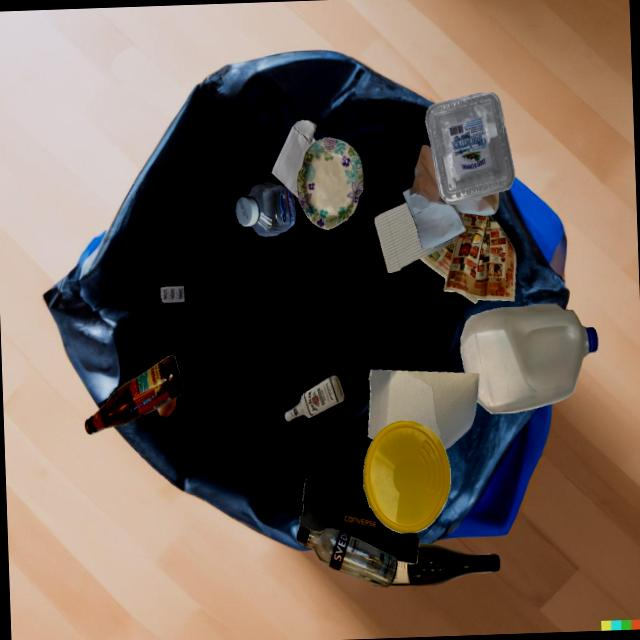biowaste: (157, 397, 176, 417)
cardboard: (298, 479, 419, 563), (367, 369, 479, 449), (296, 137, 363, 229)
glass: (84, 355, 184, 434), (296, 527, 397, 587), (389, 543, 500, 585), (284, 375, 344, 420)
paper: (402, 145, 499, 248), (419, 213, 516, 303), (374, 202, 453, 272), (271, 120, 316, 198)
plastic: (460, 303, 598, 413), (425, 92, 514, 204), (363, 421, 450, 533), (235, 181, 295, 236), (160, 286, 184, 302)
